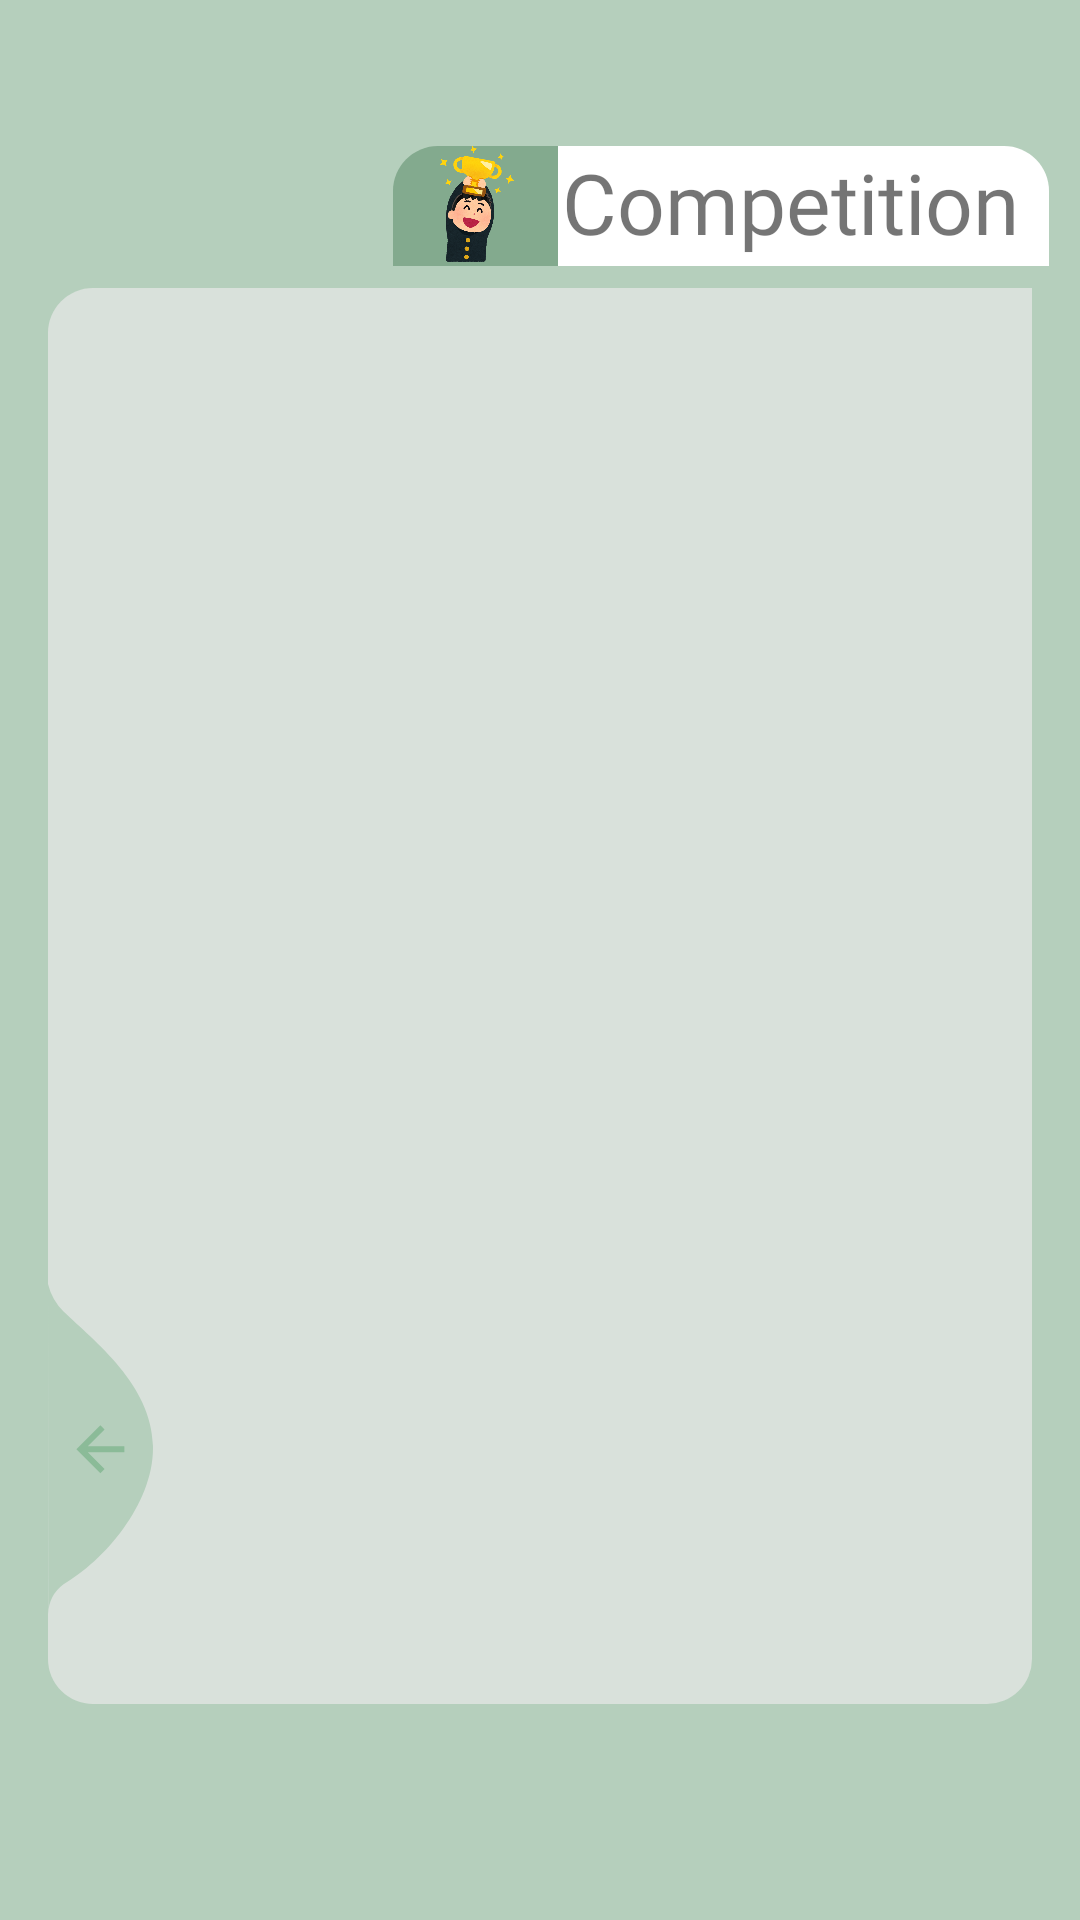

Named icons in this screenshot (1080px x 1920px) and their bounding boxes, (x1, y1, x2, y2):
back: (48, 1286, 153, 1608)
